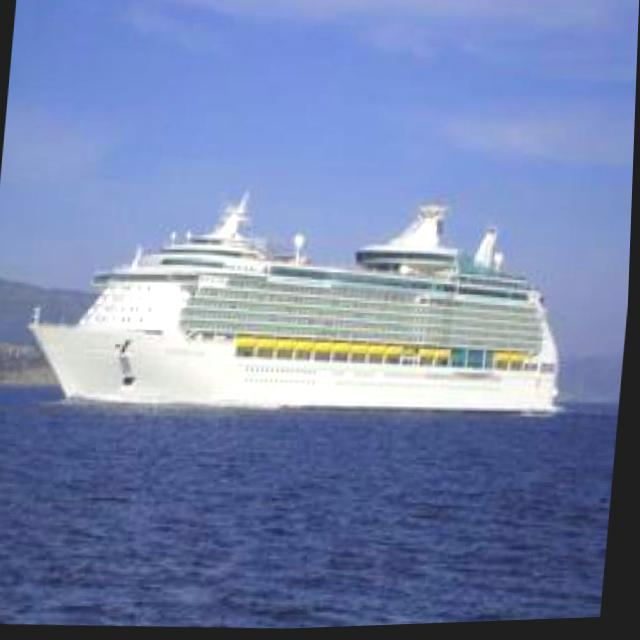ship2: (32, 197, 564, 421)
